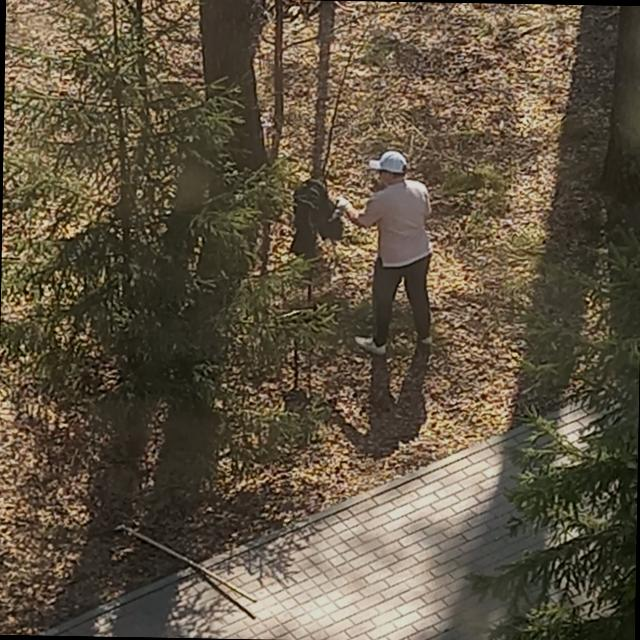person: (332, 147, 437, 354)
